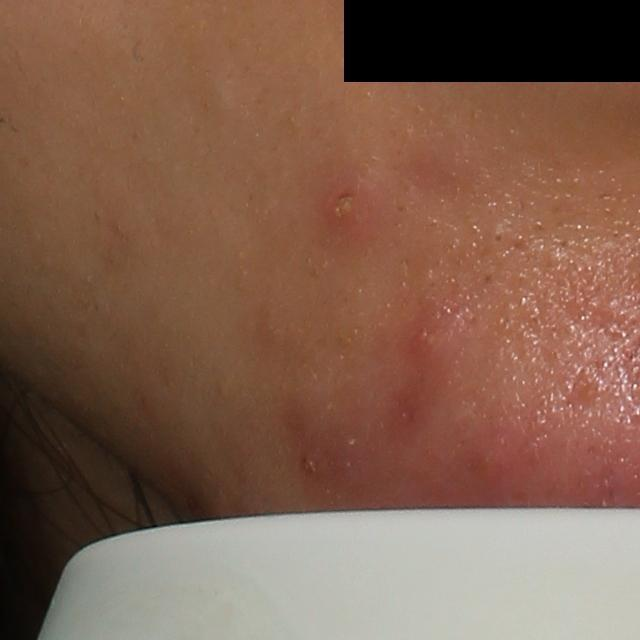comedo: (487, 229, 506, 247)
